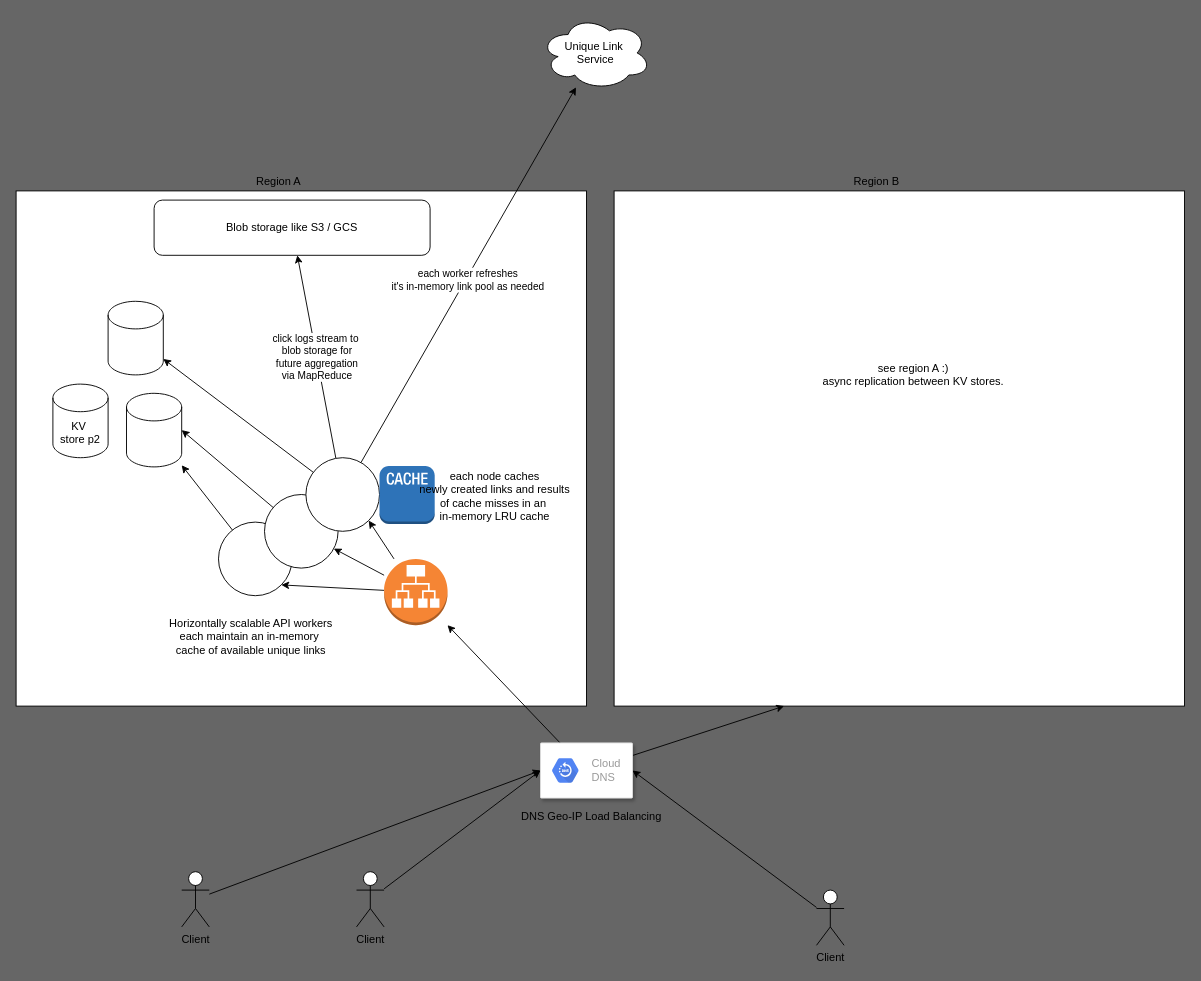
This 1201x981 diagram has some shape labels left out. Here are the shapes that lost their labels. From the top down, the centre of each, then its label:
At pixel 135 337: "KV store p3".
At pixel 154 429: "KV store p1".
At pixel 415 591: "Round Robin Load Balancer".
